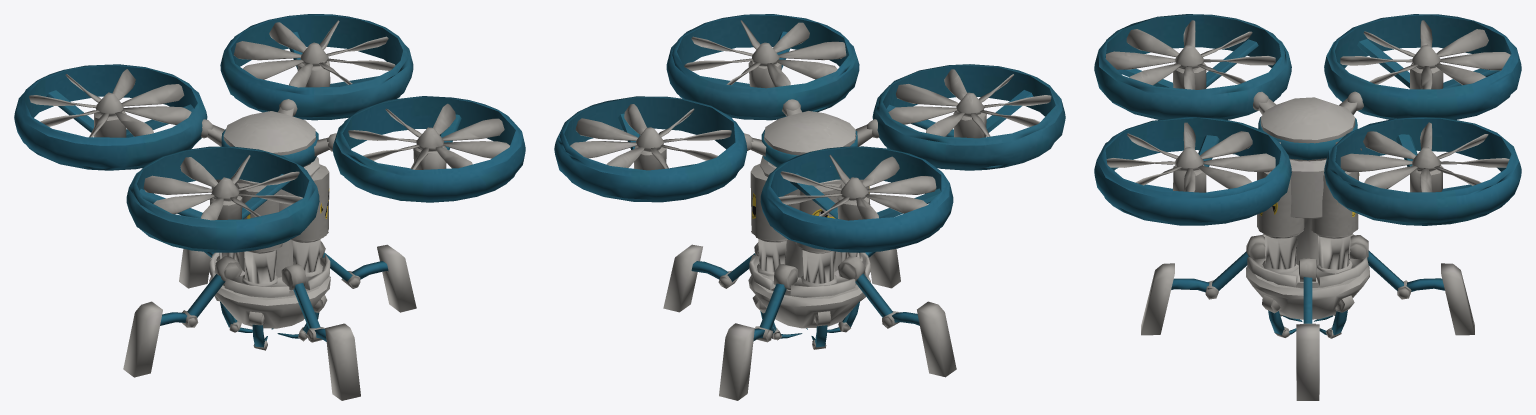
Rendered from cargo_drone.glb.
3 renders of one model, left to right at view 1: azimuth 30°, elevation 25°; view 2: azimuth 150°, elevation 25°; view 3: azimuth 270°, elevation 25°, orthographic. The views are drawn at different scales.
Visible parts, largest first — view 1: KB3D_ATP_PropDrone_A_Main; view 2: KB3D_ATP_PropDrone_A_Main; view 3: KB3D_ATP_PropDrone_A_Main.
Boxes of the visible parts, box(x1,y1,x2,y2) form: KB3D_ATP_PropDrone_A_Main: box(14, 14, 525, 400); KB3D_ATP_PropDrone_A_Main: box(554, 14, 1065, 400); KB3D_ATP_PropDrone_A_Main: box(1094, 14, 1521, 400).
Bounding box in the file's own units: 1.25 × 0.7287 × 1.21.
4 materials, 4 textured.
